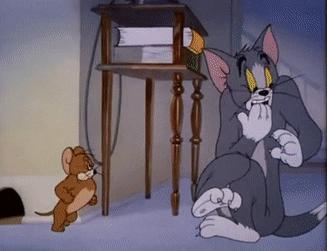jerry: (32, 146, 99, 233)
